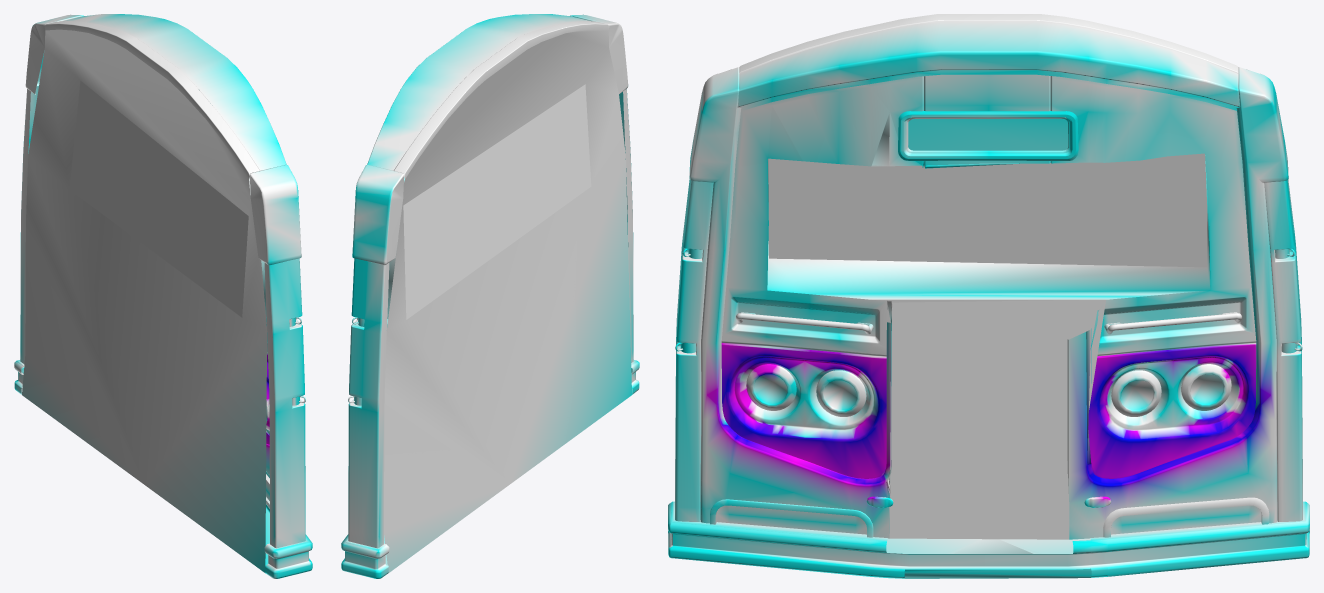
The model's file is frentesubte.fbx.
The picture shows the model from 3 angles, left to right: view 1: azimuth 30°, elevation 25°; view 2: azimuth 150°, elevation 25°; view 3: azimuth 270°, elevation 25°; orthographic projection. The views are drawn at different scales.
Parts seen in each view (by area): view 1: SM_ext_endwall_01_LOD0; view 2: SM_ext_endwall_01_LOD0; view 3: SM_ext_endwall_01_LOD0.
Part boxes in pixels (bbox=[...]): SM_ext_endwall_01_LOD0: bbox=[14, 14, 312, 578]; SM_ext_endwall_01_LOD0: bbox=[341, 14, 639, 578]; SM_ext_endwall_01_LOD0: bbox=[668, 14, 1309, 578].
Size of what is drawn, in the model's own units: 58.51 by 321 by 356.
